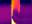Hotspot: (11, 19, 16, 23)
